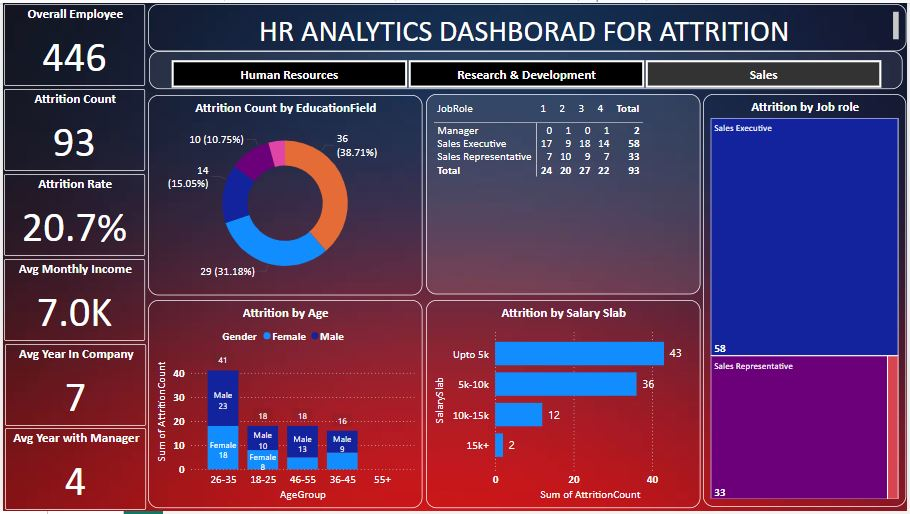

The page's visual inventory and layout, read from the dashboard file:
{"tool":"powerbi","page":{"name":"Page 1","canvas":[1280,720],"ordinal":0},"visuals":[{"type":"card","title":"Overall Employee","fields":{"Values":["Count(HR_Analytics.EmployeeNumber)"]},"box":[1.4,1.4,200,116],"z":0},{"type":"card","title":"Attrition Count","fields":{"Values":["Sum(HR_Analytics.AttritionCount)"]},"box":[1.4,121.9,199.8,116.2],"z":1000},{"type":"card","title":"Attrition Rate","fields":{"Values":["HR_Analytics.Attr_rate"]},"box":[1.4,242.4,199.8,116.2],"z":2000},{"type":"card","title":"Avg Monthly Income","fields":{"Values":["Avg(HR_Analytics.MonthlyIncome)"]},"box":[1.6,362.7,200,116],"z":3000},{"type":"card","title":"Avg Year In Company","fields":{"Values":["Avg(HR_Analytics.YearsAtCompany)"]},"box":[3.2,483.6,200,116],"z":4000},{"type":"card","title":"Avg Year with Manager","fields":{"Values":["Avg(HR_Analytics.YearsWithCurrManager)"]},"box":[3.2,602.9,200,116],"z":5000},{"type":"donutChart","title":"Attrition Count by EducationField","fields":{"Y":["Sum(HR_Analytics.AttritionCount)"],"Category":["HR_Analytics.EducationField"]},"box":[205.1,130.4,388.5,283.7],"z":6000},{"type":"columnChart","title":"Attrition by Age","fields":{"Y":["Sum(HR_Analytics.AttritionCount)"],"Category":["HR_Analytics.AgeGroup"],"Series":["HR_Analytics.Gender"]},"box":[205.1,421.3,388.5,295],"z":7000},{"type":"pivotTable","fields":{"Rows":["HR_Analytics.JobRole"],"Values":["Sum(HR_Analytics.AttritionCount)"],"Columns":["HR_Analytics.JobSatisfaction"]},"box":[600,128.8,388.5,283.7],"z":8000},{"type":"barChart","title":"Attrition by Salary Slab","fields":{"Y":["Sum(HR_Analytics.AttritionCount)"],"Category":["HR_Analytics.SalarySlab"]},"box":[600,421.3,388.5,295],"z":9000},{"type":"treemap","title":"Attrition by Job role","fields":{"Group":["HR_Analytics.JobRole"],"Values":["Sum(HR_Analytics.AttritionCount)"]},"box":[992.1,129,287.7,585.4],"z":10000},{"type":"textbox","box":[205.4,1.6,1074.6,66.9],"z":11000},{"type":"slicer","fields":{"Values":["HR_Analytics.Department"]},"box":[207,68.5,1068.3,54.1],"z":11001}]}

Visuals, with their boxes in screenshot pixels (x1, y1, x2, y2), scaled from the page's 1280x720 canvas onto the 910x514 screenshot:
"Overall Employee" card: BBox(1, 1, 143, 84)
"Attrition Count" card: BBox(1, 87, 143, 170)
"Attrition Rate" card: BBox(1, 173, 143, 256)
"Avg Monthly Income" card: BBox(1, 259, 143, 342)
"Avg Year In Company" card: BBox(2, 345, 144, 428)
"Avg Year with Manager" card: BBox(2, 430, 144, 513)
"Attrition Count by EducationField" donutChart: BBox(146, 93, 422, 296)
"Attrition by Age" columnChart: BBox(146, 301, 422, 511)
pivotTable - HR_Analytics.JobRole x Sum(HR_Analytics.AttritionCount): BBox(427, 92, 703, 294)
"Attrition by Salary Slab" barChart: BBox(427, 301, 703, 511)
"Attrition by Job role" treemap: BBox(705, 92, 909, 510)
textbox: BBox(146, 1, 909, 49)
slicer - HR_Analytics.Department: BBox(147, 49, 907, 88)
